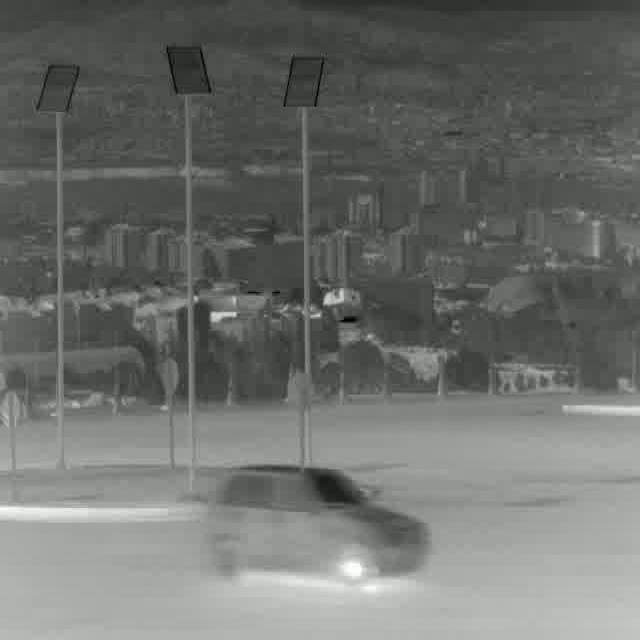Car: (206, 465, 425, 587)
